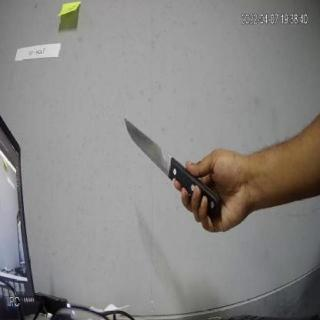knife: (122, 109, 222, 217)
